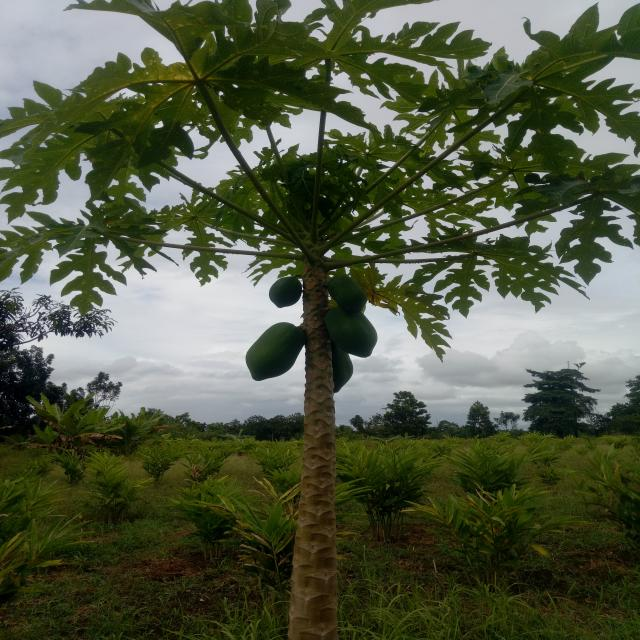Pepaya unrippen: (241, 321, 296, 382), (326, 269, 372, 321), (335, 314, 377, 359), (264, 284, 304, 310)
